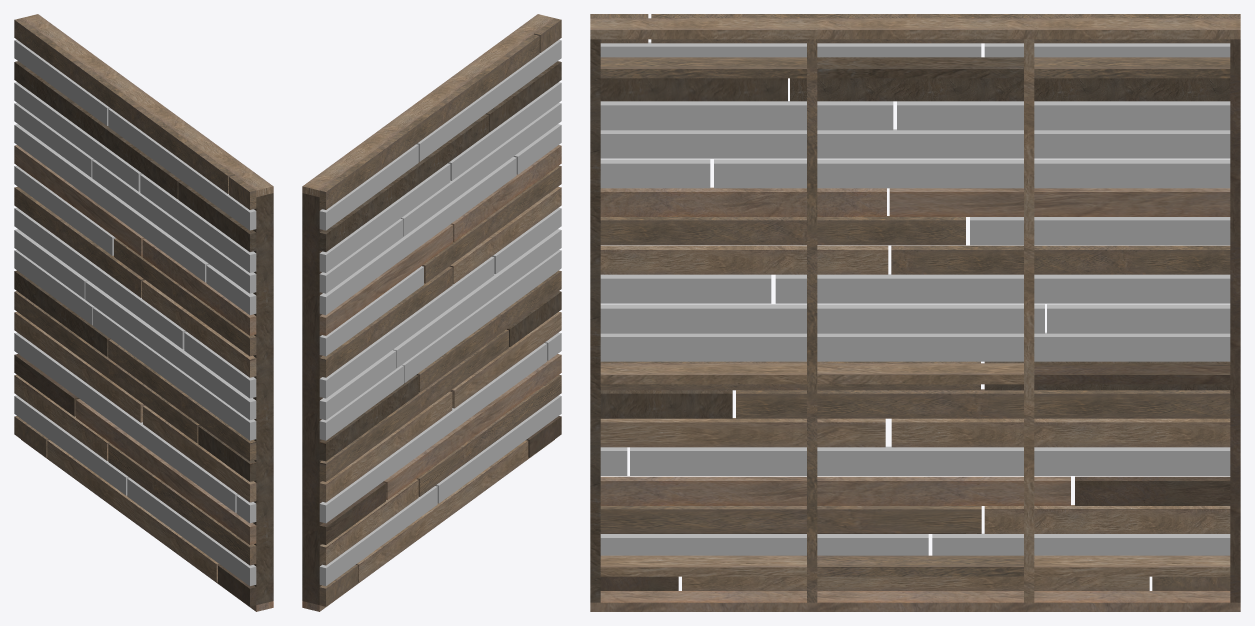
Rendered from WoodWallA.fbx.
3 renders of one model, left to right at view 1: azimuth 30°, elevation 25°; view 2: azimuth 150°, elevation 25°; view 3: azimuth 270°, elevation 25°, orthographic. The views are drawn at different scales.
Parts seen in each view (by area): view 1: WoodWallA; view 2: WoodWallA; view 3: WoodWallA.
Part boxes in pixels (left/top/right/bottom): WoodWallA: left=14, top=14, right=273, bottom=611; WoodWallA: left=302, top=14, right=561, bottom=611; WoodWallA: left=590, top=14, right=1240, bottom=611.
Bounding box in the file's own units: 22 × 374 × 379.
